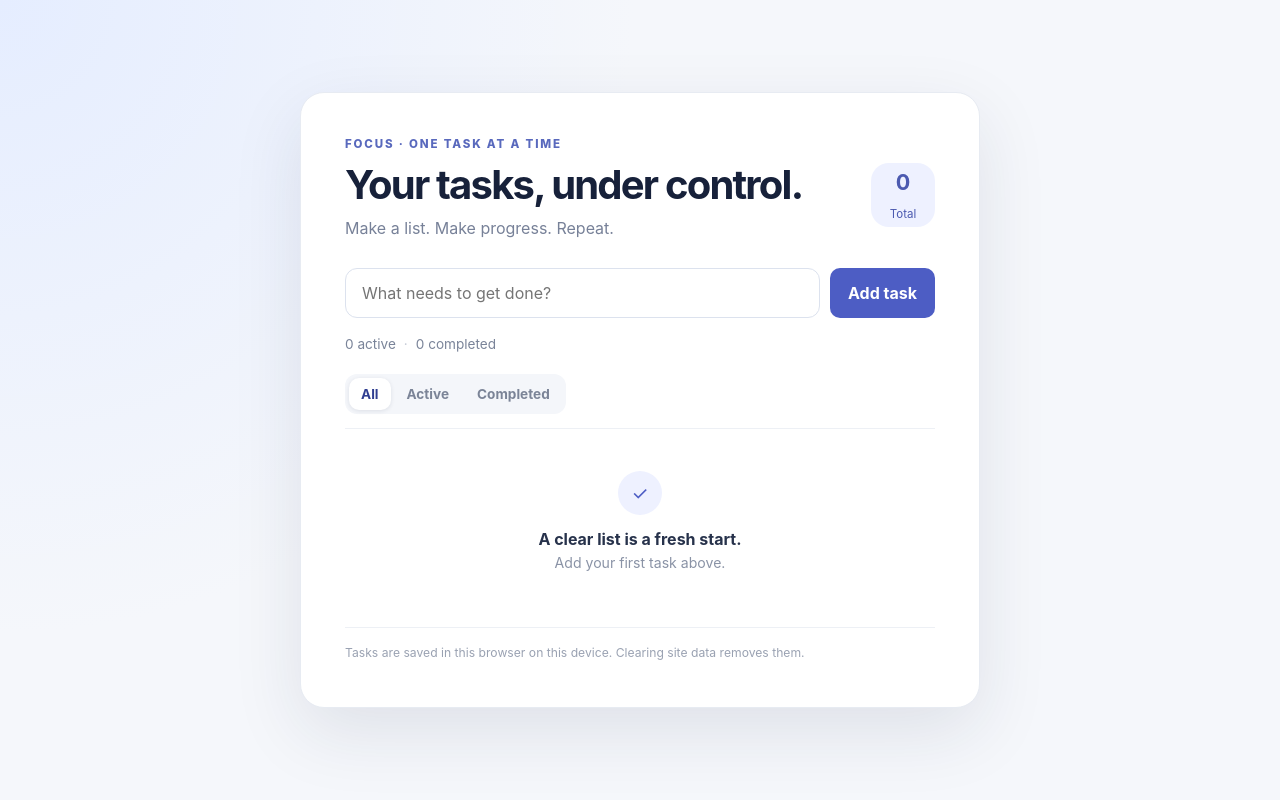
Scenario: Todo management › adds a trimmed task and clears the input
Type "  Write tests  " into the field named "add a task".
click(582, 293); type("  Write tests  ")  # box [345,268,820,318]
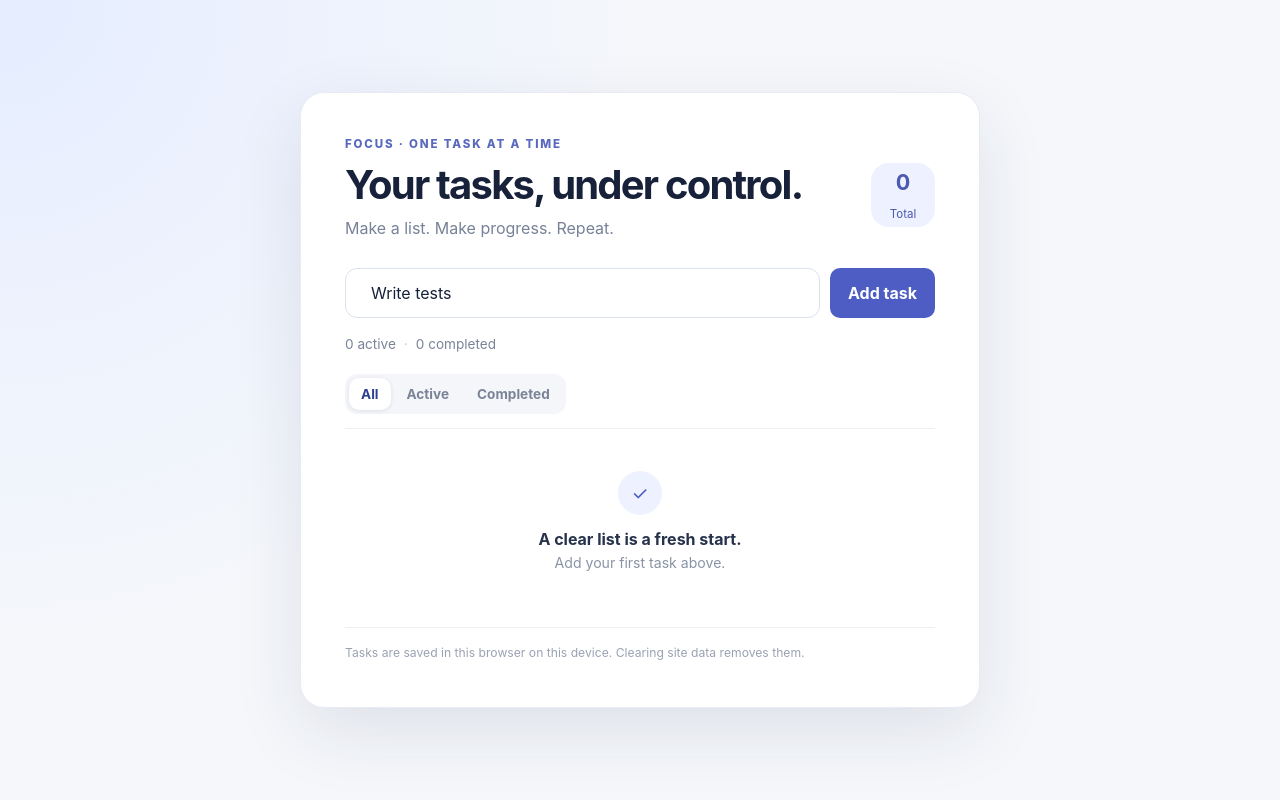
Click the button "Add task".
click(882, 293)  # box [830,268,935,318]
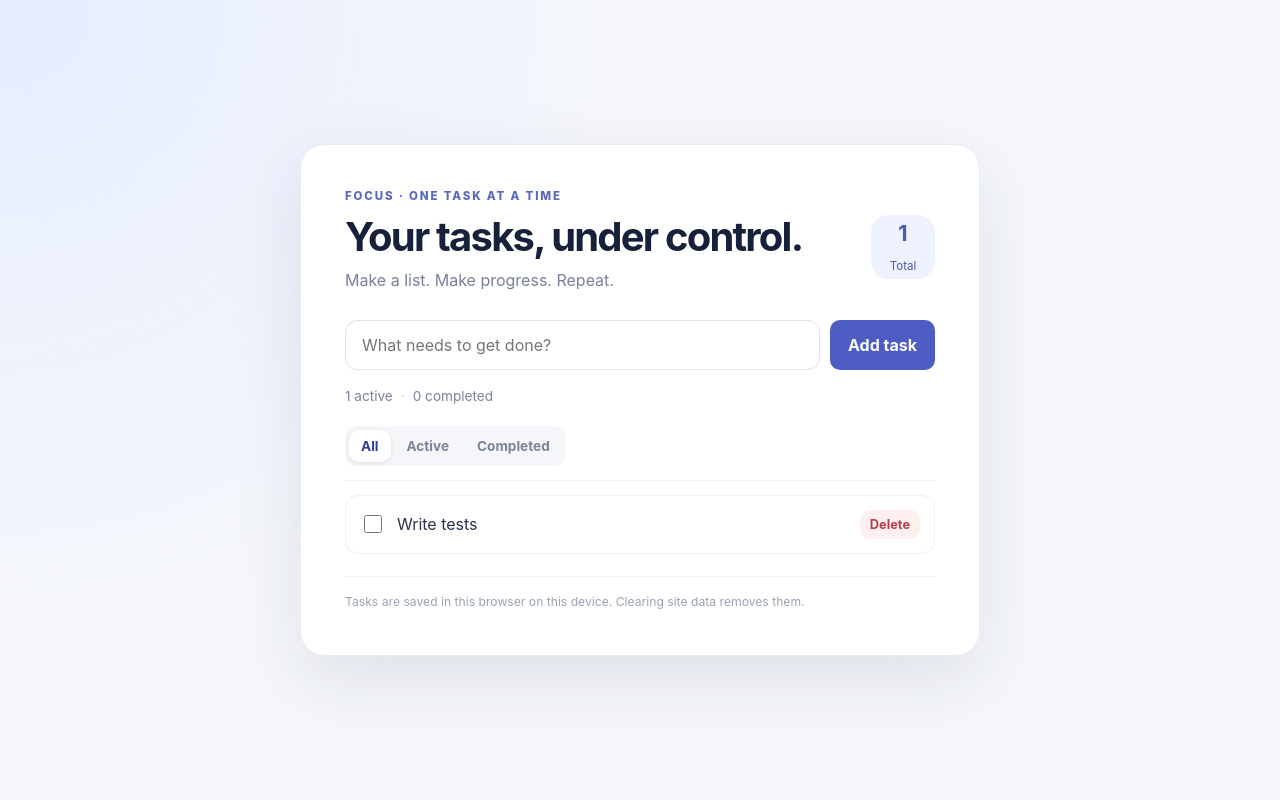
Result: the text "Write tests" is shown at [397,514,478,534]
Result: the field named "add a task" is empty at [345,320,820,370]
Result: the text "1 active" is shown at [345,388,393,404]
